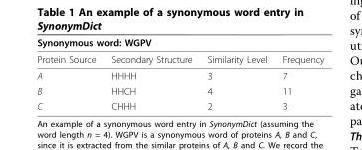table: (36, 36, 323, 111)
table column: (103, 36, 199, 111), (199, 36, 274, 111), (36, 36, 103, 111), (274, 36, 323, 111)
table column header: (36, 36, 323, 67)
table row: (36, 50, 323, 67), (36, 67, 323, 83), (36, 83, 323, 98), (36, 36, 323, 50), (36, 98, 323, 111)
table spanning cell: (36, 36, 323, 50)
